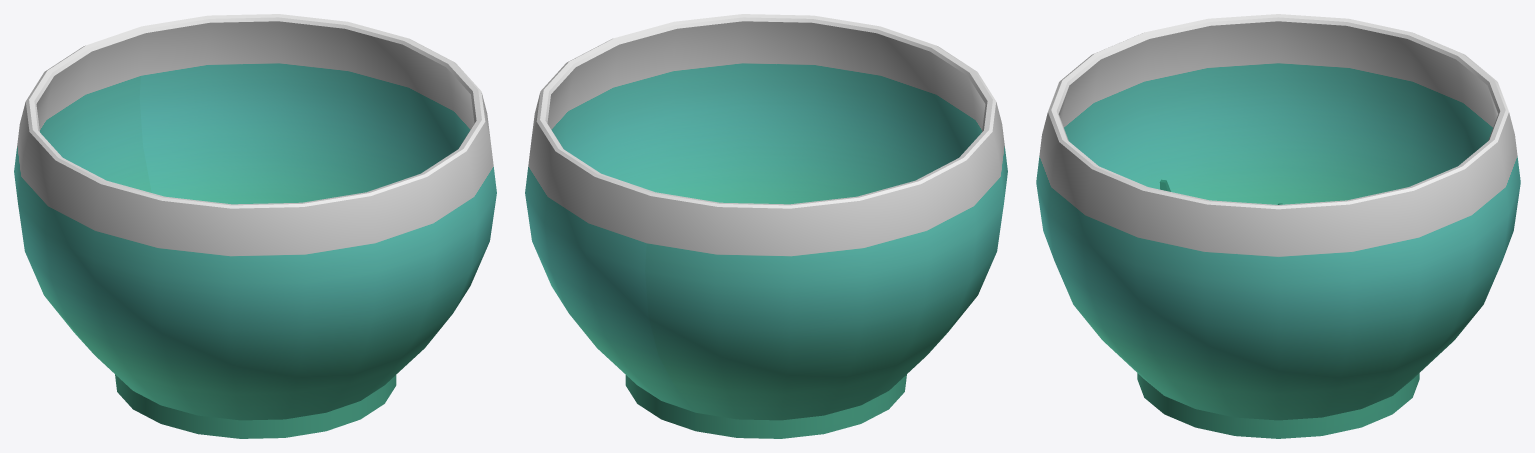
The model's file is SM_aquarium.fbx.
3 renders of one model, left to right at view 1: azimuth 30°, elevation 25°; view 2: azimuth 150°, elevation 25°; view 3: azimuth 270°, elevation 25°, orthographic.
Visible parts, largest first — view 1: SM_AQUARIUM; view 2: SM_AQUARIUM; view 3: SM_AQUARIUM.
Part boxes in pixels (x1,y1,x2,y2): SM_AQUARIUM: (14, 14, 496, 438); SM_AQUARIUM: (525, 14, 1007, 438); SM_AQUARIUM: (1036, 14, 1520, 438).
Bounding box in the file's own units: 7.98 × 4.89 × 7.98.
Materials: 1 (1 with a texture image).
